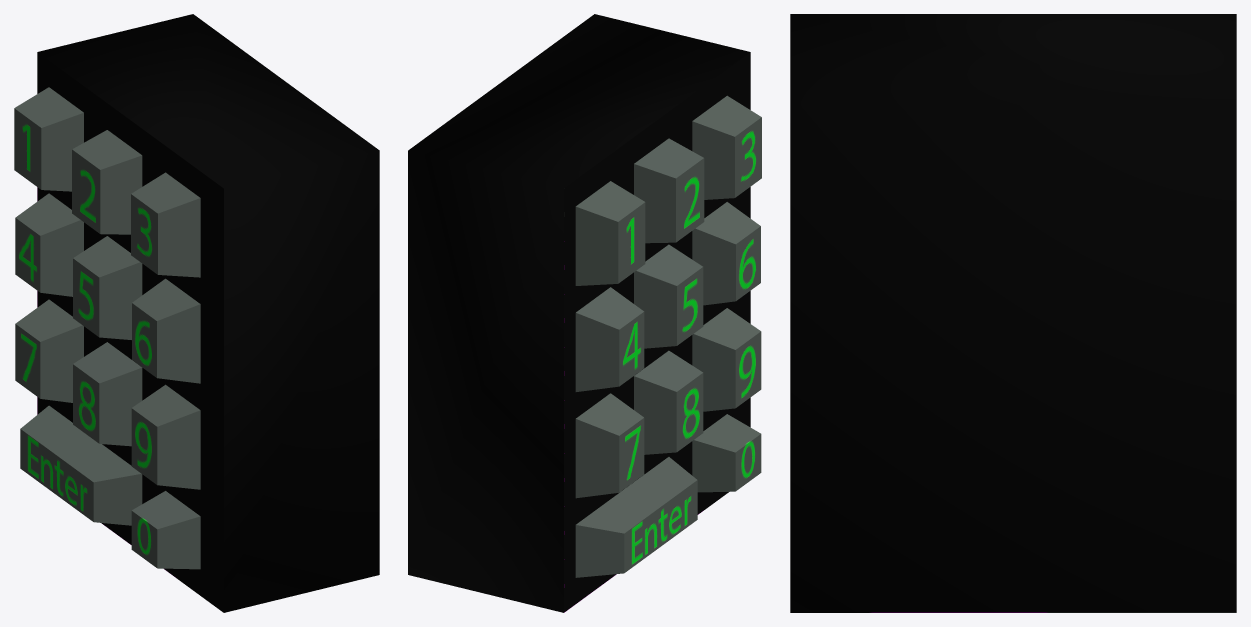
Rendered from KeyPad.fbx.
3 views of the same model, side by side, from view 1: azimuth 30°, elevation 25°; view 2: azimuth 150°, elevation 25°; view 3: azimuth 270°, elevation 25° (orthographic). The views are drawn at different scales.
Visible parts, largest first — view 1: Keypad1; view 2: Keypad1; view 3: Keypad1.
Boxes of the visible parts, box(x1,y1,x2,y2) form: Keypad1: box(14, 14, 379, 612); Keypad1: box(408, 14, 761, 612); Keypad1: box(790, 14, 1236, 612).
Size of the model in its own units: 18.72 by 39.04 by 31.09.
